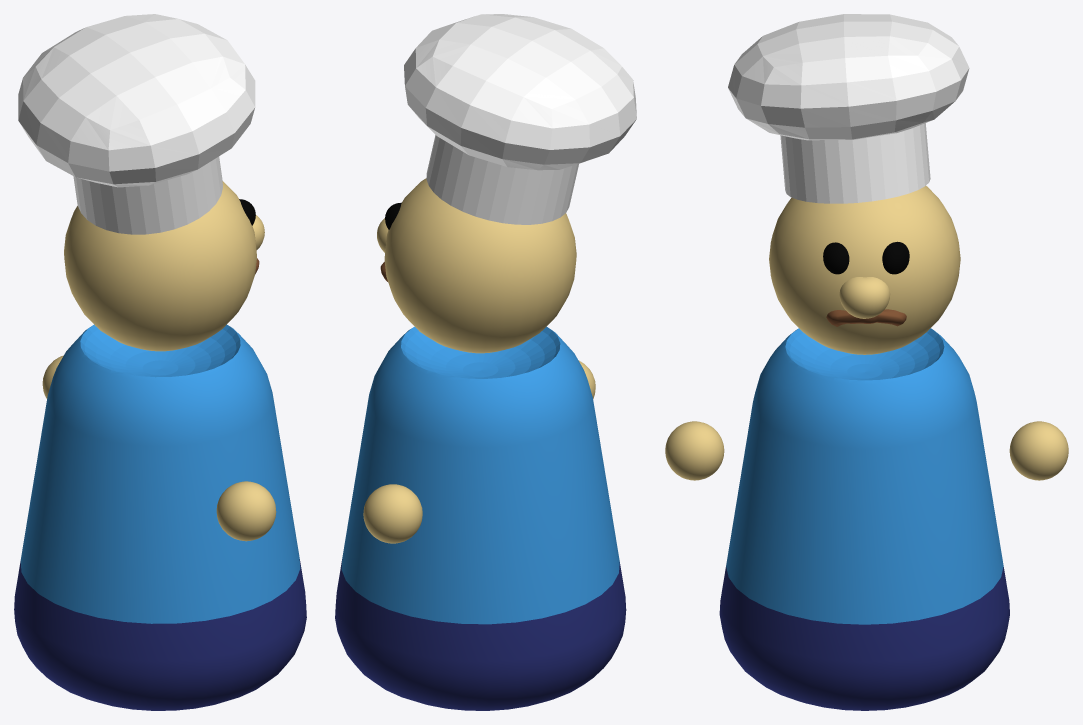
Rendered from Pizzaiolo-Bleu.glb.
3 views of the same model, side by side, from view 1: azimuth 30°, elevation 25°; view 2: azimuth 150°, elevation 25°; view 3: azimuth 270°, elevation 25° (orthographic).
Parts seen in each view (by area): view 1: Body, Cube, Head, Cylinder, Bras_G.001; view 2: Body, Cube, Head, Cylinder, Bras_G.002; view 3: Body, Cube, Head, Cylinder, Bras_G.001, Bras_G.002, Nez, Moustache, Sphere.007, Sphere.006.
Boxes of the visible parts, x1,y1,x2,y2 form: Body: [14, 324, 306, 710]; Cube: [18, 14, 255, 187]; Head: [64, 181, 256, 351]; Cylinder: [73, 156, 222, 234]; Bras_G.001: [216, 481, 276, 541]; Body: [335, 326, 626, 710]; Cube: [404, 14, 636, 170]; Head: [384, 178, 576, 353]; Cylinder: [426, 135, 578, 224]; Bras_G.002: [363, 484, 422, 543]; Body: [719, 328, 1009, 710]; Cube: [728, 14, 969, 140]; Head: [769, 186, 960, 354]; Cylinder: [780, 123, 930, 203]; Bras_G.001: [665, 421, 724, 480]; Bras_G.002: [1009, 421, 1068, 480]; Nez: [839, 277, 890, 318]; Moustache: [826, 309, 906, 326]; Sphere.007: [882, 241, 909, 274]; Sphere.006: [823, 242, 849, 274].
Bounding box in the file's own units: 1.9 × 4.48 × 2.59.
